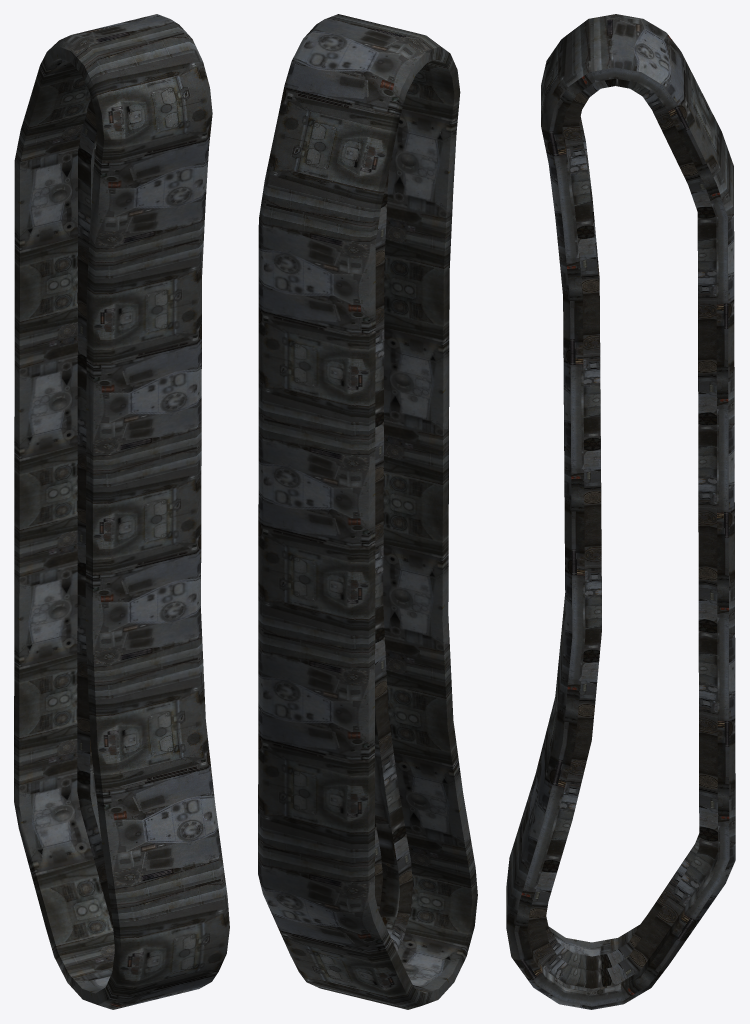
The model's file is TrackL.obj.
The picture shows the model from 3 angles, left to right: view 1: azimuth 30°, elevation 25°; view 2: azimuth 150°, elevation 25°; view 3: azimuth 270°, elevation 25°; orthographic projection.
Parts seen in each view (by area): view 1: 3D_Object_2; view 2: 3D_Object_2; view 3: 3D_Object_2.
Boxes of the visible parts, box(x1,y1,x2,y2) form: 3D_Object_2: box(14, 14, 229, 1009); 3D_Object_2: box(258, 14, 477, 1009); 3D_Object_2: box(506, 14, 735, 1009).
Bounding box in the file's own units: 0.7887 × 6.61 × 1.44.
